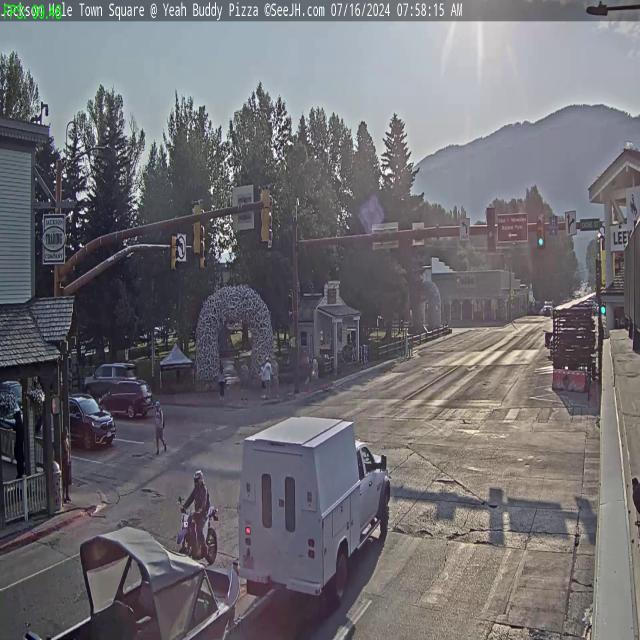motorcycle: (178, 501, 218, 565)
person: (188, 470, 208, 549), (62, 424, 72, 502), (15, 410, 24, 488), (155, 402, 165, 453), (240, 360, 249, 406), (265, 358, 272, 399), (218, 362, 225, 400), (273, 359, 279, 396), (260, 365, 266, 396)
suv: (59, 395, 117, 449), (84, 361, 137, 403), (98, 380, 153, 417)
traffic light: (259, 186, 273, 248), (191, 200, 203, 256), (487, 207, 496, 251), (536, 215, 544, 248), (171, 235, 178, 271), (200, 238, 207, 271)
truck: (237, 417, 392, 607)
